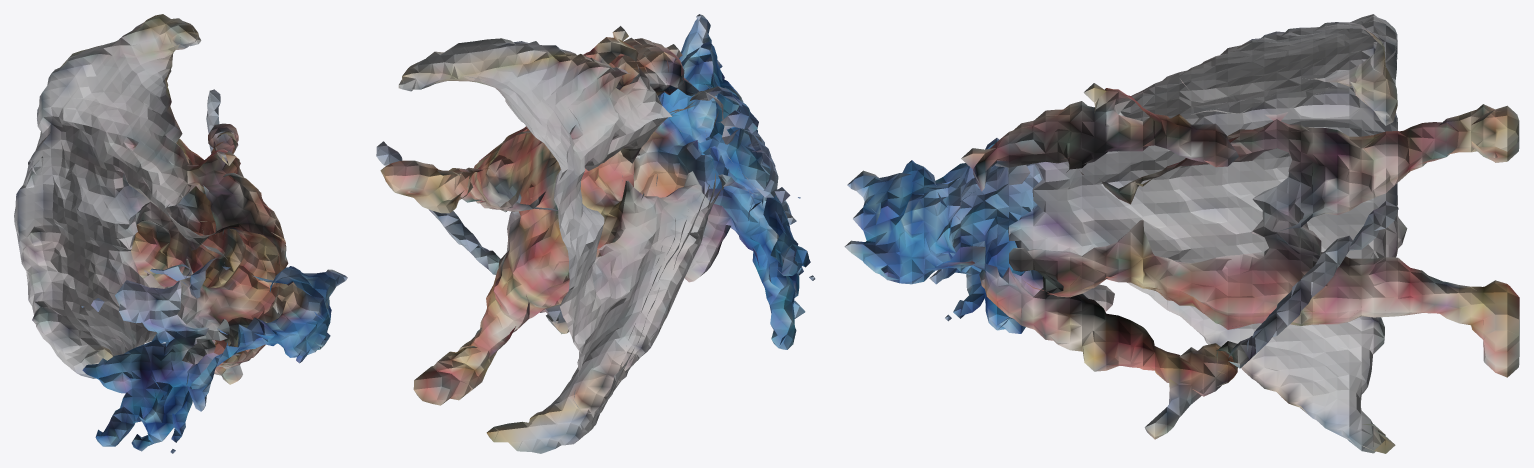
Rendered from anime_hero_test.glb.
3 renders of one model, left to right at view 1: azimuth 30°, elevation 25°; view 2: azimuth 150°, elevation 25°; view 3: azimuth 270°, elevation 25°, orthographic. The views are drawn at different scales.
Parts seen in each view (by area): view 1: geometry_0; view 2: geometry_0; view 3: geometry_0.
Part boxes in pixels (bbox=[...]): geometry_0: bbox=[14, 14, 347, 453]; geometry_0: bbox=[376, 14, 815, 453]; geometry_0: bbox=[844, 14, 1519, 453].
Size of the model in its own units: 0.5926 by 0.7493 by 1.02.
